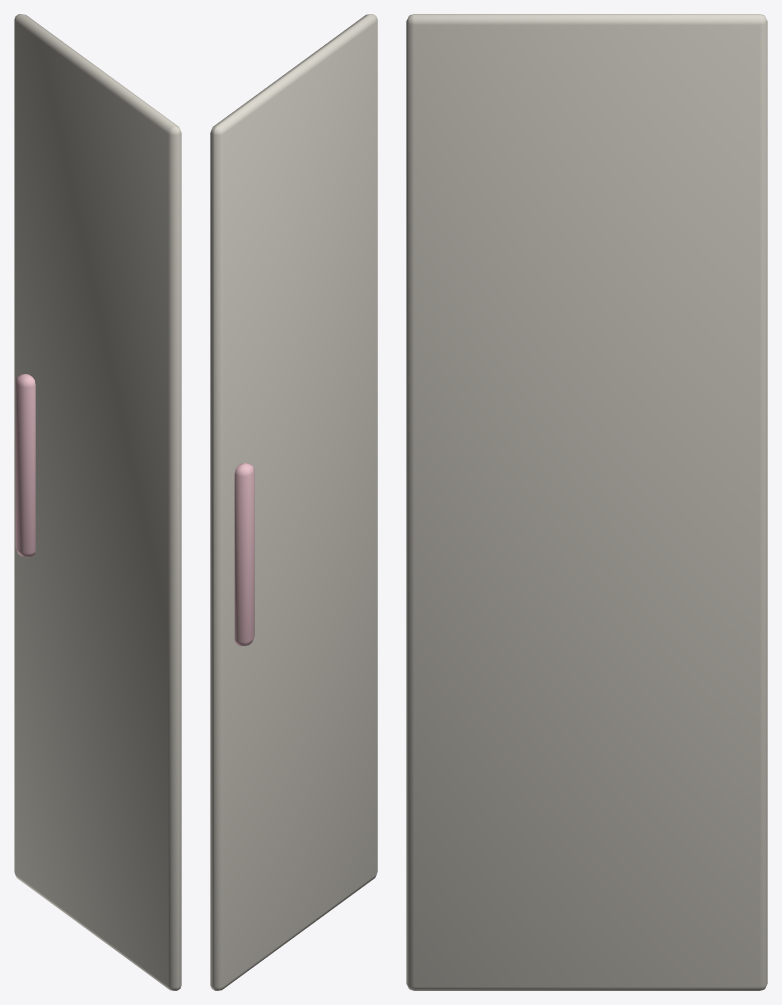
File: closet_door_r.fbx
3 renders of one model, left to right at view 1: azimuth 30°, elevation 25°; view 2: azimuth 150°, elevation 25°; view 3: azimuth 270°, elevation 25°, orthographic. The views are drawn at different scales.
Parts seen in each view (by area): view 1: Cube.075; view 2: Cube.075; view 3: Cube.075.
Boxes of the visible parts, x1,y1,x2,y2 form: Cube.075: [14, 14, 181, 990]; Cube.075: [210, 14, 377, 990]; Cube.075: [406, 14, 767, 990].
Size of the model in its own units: 64.14 by 2073 by 695.
